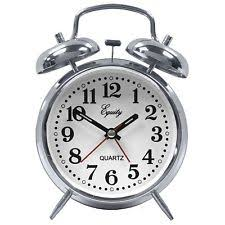alarm_clock: (35, 4, 188, 220)
